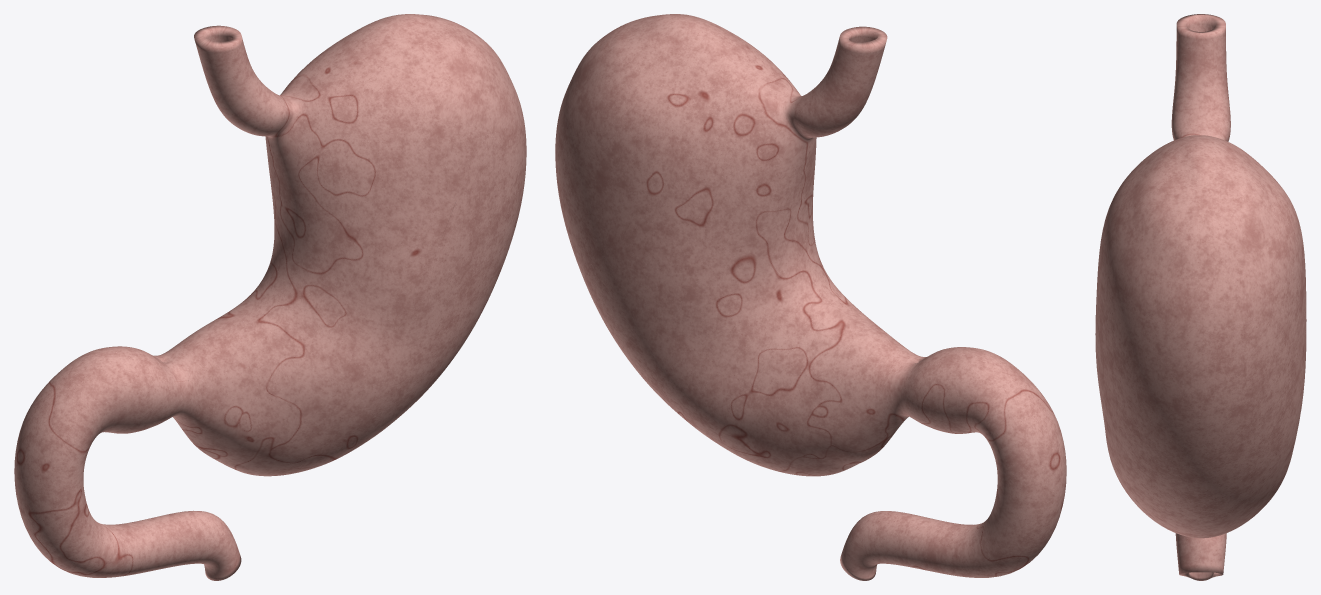
File: realistic_stomach.glb
3 views of the same model, side by side, from view 1: azimuth 30°, elevation 25°; view 2: azimuth 150°, elevation 25°; view 3: azimuth 270°, elevation 25° (orthographic). The views are drawn at different scales.
Visible parts, largest first — view 1: Stomach_0; view 2: Stomach_0; view 3: Stomach_0.
Boxes of the visible parts, x1,y1,x2,y2 form: Stomach_0: (14,14,526,580); Stomach_0: (555,14,1066,580); Stomach_0: (1095,14,1306,580).
Bounding box in the file's own units: 4.41 × 4.6 × 1.57.
1 material, 1 textured.
